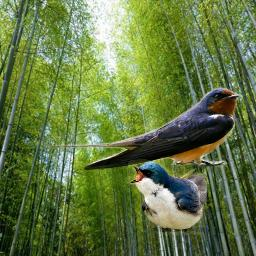Swallow: (44, 86, 240, 170), (127, 159, 207, 235)
